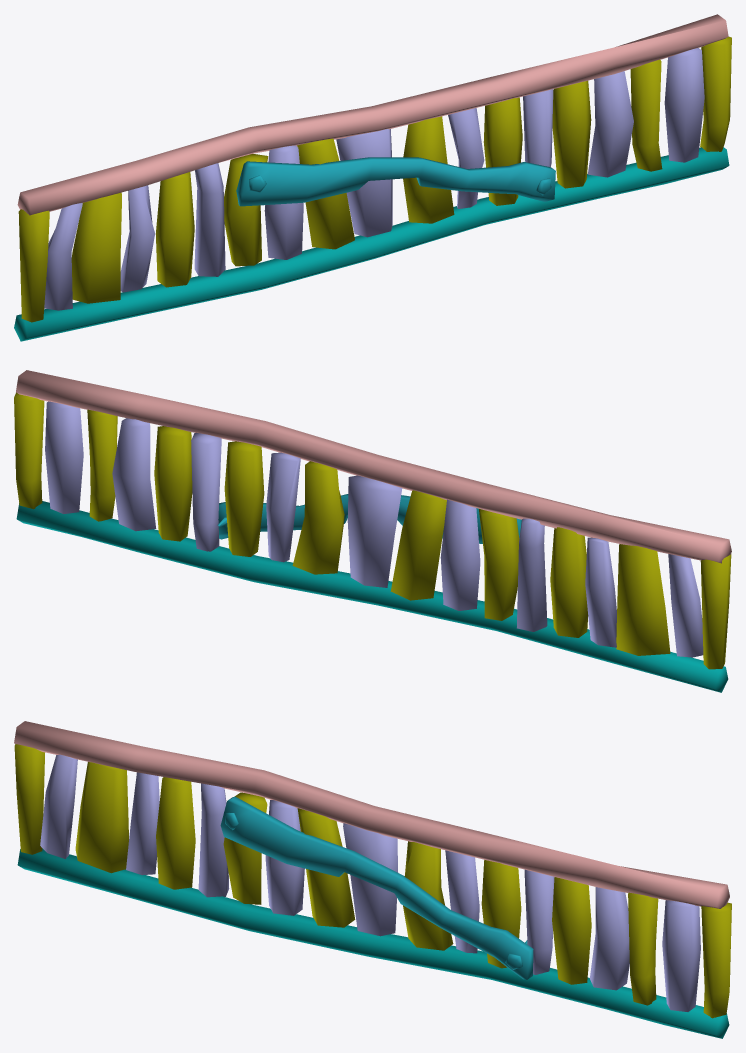
Rendered from PBW_W1_QuarterWallS.glb.
3 renders of one model, top to bottom at view 1: azimuth 30°, elevation 25°; view 2: azimuth 150°, elevation 25°; view 3: azimuth 330°, elevation 25°, orthographic.
Visible parts, largest first — view 1: PBW_W1_QuarterWallS; view 2: PBW_W1_QuarterWallS; view 3: PBW_W1_QuarterWallS.
Boxes of the visible parts, x1,y1,x2,y2 form: PBW_W1_QuarterWallS: [14, 14, 731, 341]; PBW_W1_QuarterWallS: [14, 370, 731, 692]; PBW_W1_QuarterWallS: [14, 721, 731, 1038].
Size of the model in its own units: 5.2 by 1.07 by 0.3481.
